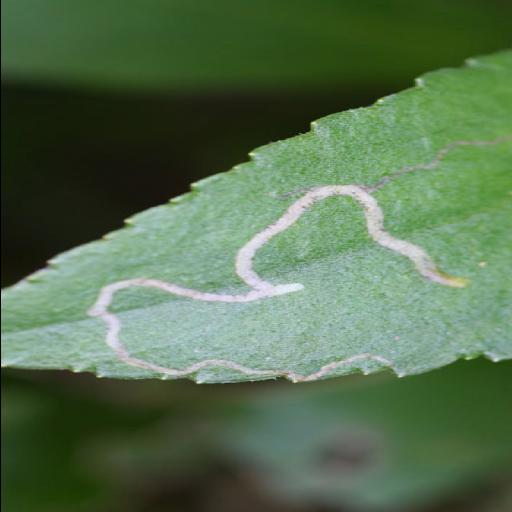disease_tomato: (0, 47, 512, 383)
